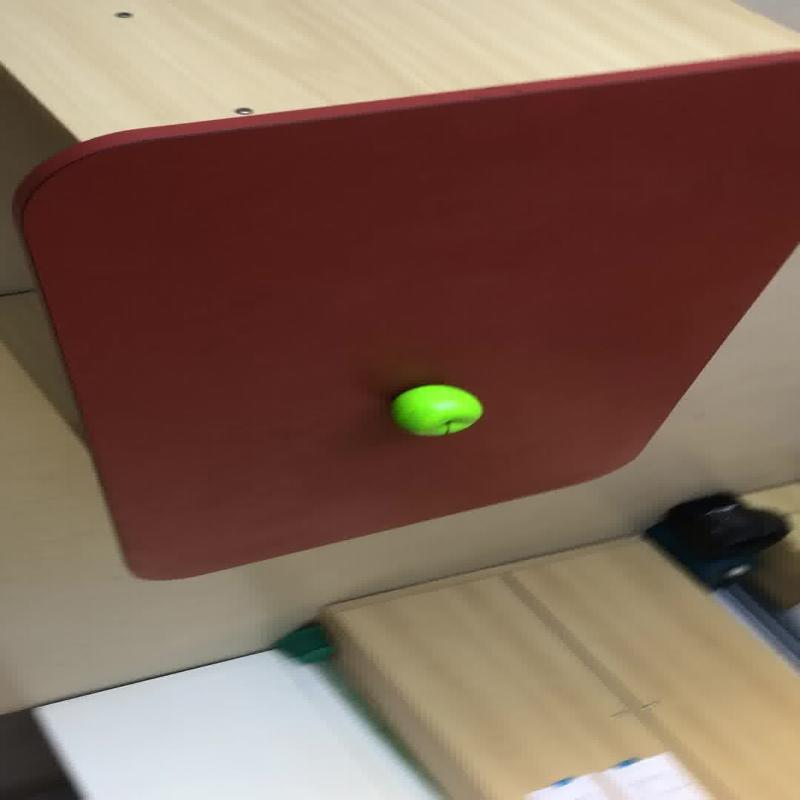apple: (389, 382, 482, 436)
